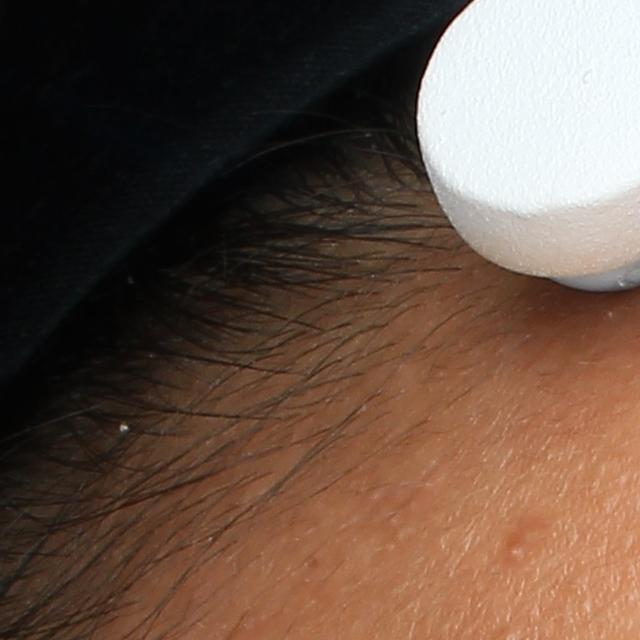papule: (506, 541, 526, 561)
